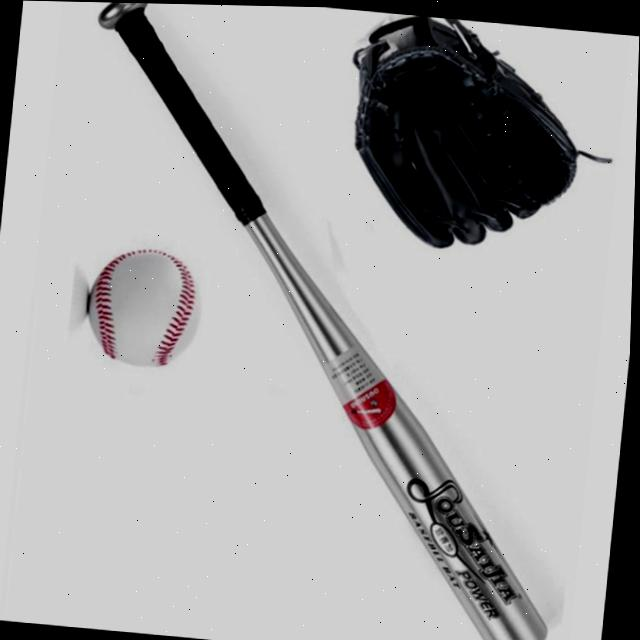baseball bat: (210, 227, 620, 640)
